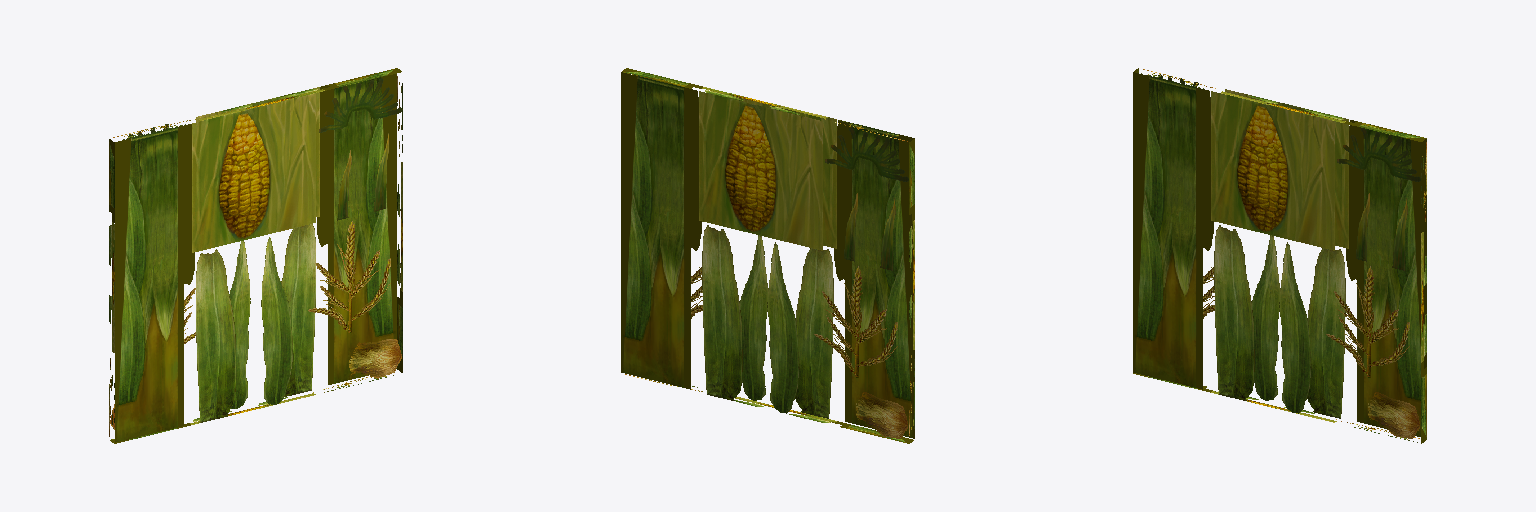
3 views of the same model, side by side, from view 1: azimuth 30°, elevation 25°; view 2: azimuth 150°, elevation 25°; view 3: azimuth 330°, elevation 25° (orthographic).
Visible parts, largest first — view 1: Box001; view 2: Box001; view 3: Box001.
Boxes of the visible parts, x1,y1,x2,y2 form: Box001: [109, 68, 402, 443]; Box001: [621, 68, 914, 443]; Box001: [1133, 68, 1426, 443].
Size of the model in its own units: 3 by 3 by 0.1.
1 materials, 1 textured.